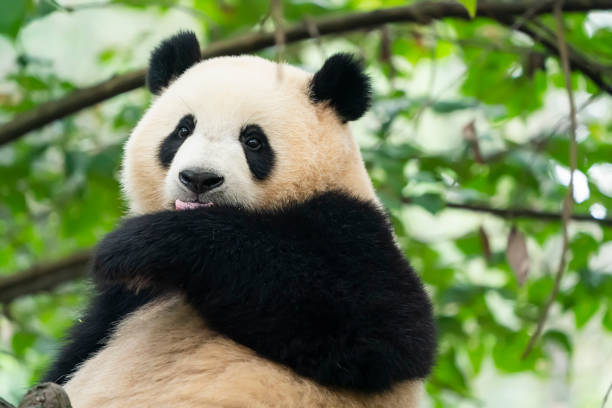panda: (125, 13, 405, 234)
